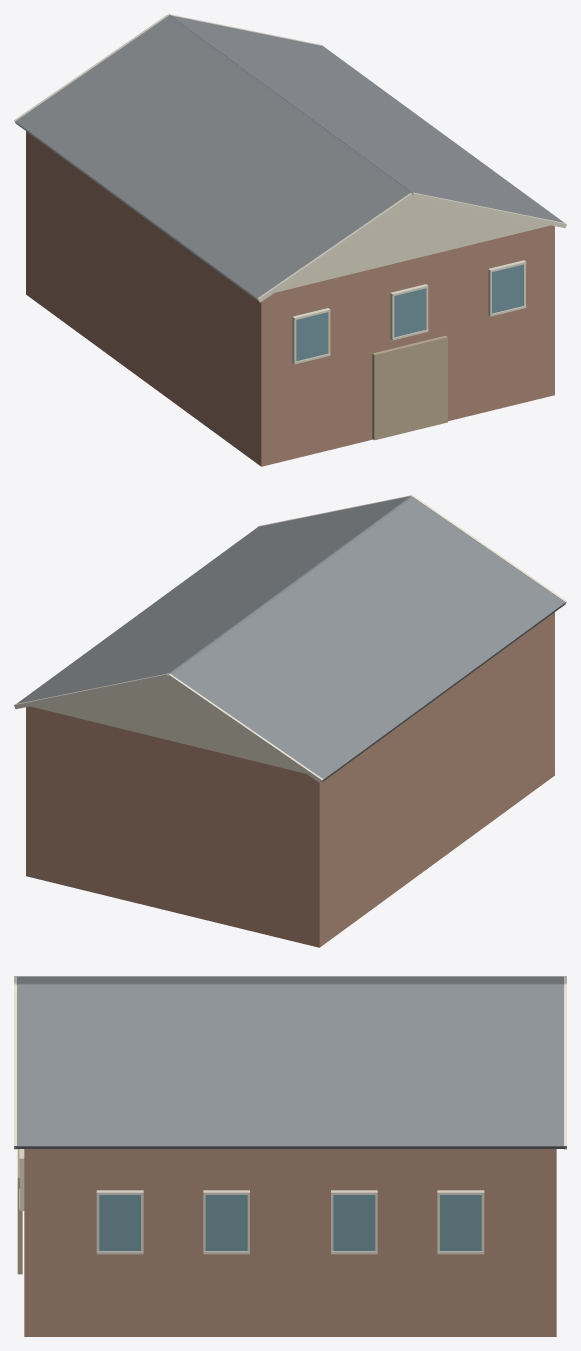
The model's file is tyne-warehouse_lod1.glb.
3 views of the same model, one above another, from view 1: azimuth 30°, elevation 25°; view 2: azimuth 150°, elevation 25°; view 3: azimuth 270°, elevation 25° (orthographic). The views are drawn at different scales.
Parts seen in each view (by area): view 1: RF_IndustrialHall, RF_Roof.001, RF_Roof, RF_Gable, RF_LoadingDoor, RF_Window.005, RF_Window, RF_Window.006, RF_Vergeband.001, RF_Vergeband.003, RF_Ridge; view 2: RF_IndustrialHall, RF_Roof.001, RF_Roof, RF_Gable.001, RF_Vergeband.002, RF_Vergeband, RF_Ridge; view 3: RF_Roof, RF_IndustrialHall, RF_Roof.001, RF_Window.002, RF_Window.003, RF_Window.001, RF_Window.004, RF_LoadingDoor, RF_Ridge, RF_Vergeband.003, RF_Vergeband.
Part boxes in pixels (box(x1,y1,x2,y2)): RF_IndustrialHall: box(26, 131, 554, 466); RF_Roof.001: box(15, 16, 410, 301); RF_Roof: box(170, 15, 564, 222); RF_Gable: box(275, 197, 550, 292); RF_LoadingDoor: box(372, 335, 447, 440); RF_Window.005: box(296, 312, 327, 361); RF_Window: box(492, 264, 523, 313); RF_Window.006: box(394, 288, 425, 337); RF_Vergeband.001: box(257, 193, 413, 302); RF_Vergeband.003: box(412, 192, 566, 228); RF_Ridge: box(168, 15, 412, 193); RF_IndustrialHall: box(26, 612, 554, 947); RF_Roof.001: box(170, 497, 565, 782); RF_Roof: box(16, 496, 410, 703); RF_Gable.001: box(30, 678, 305, 773); RF_Vergeband.002: box(167, 674, 323, 783); RF_Vergeband: box(14, 673, 168, 709); RF_Ridge: box(168, 496, 412, 674); RF_Roof: box(16, 984, 564, 1148); RF_IndustrialHall: box(24, 1149, 556, 1336); RF_Roof.001: box(16, 976, 564, 984); RF_Window.002: box(205, 1195, 247, 1251); RF_Window.003: box(333, 1195, 375, 1251); RF_Window.001: box(99, 1195, 140, 1251); RF_Window.004: box(440, 1195, 481, 1251); RF_LoadingDoor: box(17, 1149, 22, 1274); RF_Ridge: box(17, 984, 563, 984); RF_Vergeband.003: box(14, 984, 16, 1149); RF_Vergeband: box(564, 984, 566, 1149).
Bounding box in the file's own units: 18.89 × 14.11 × 25.98.
